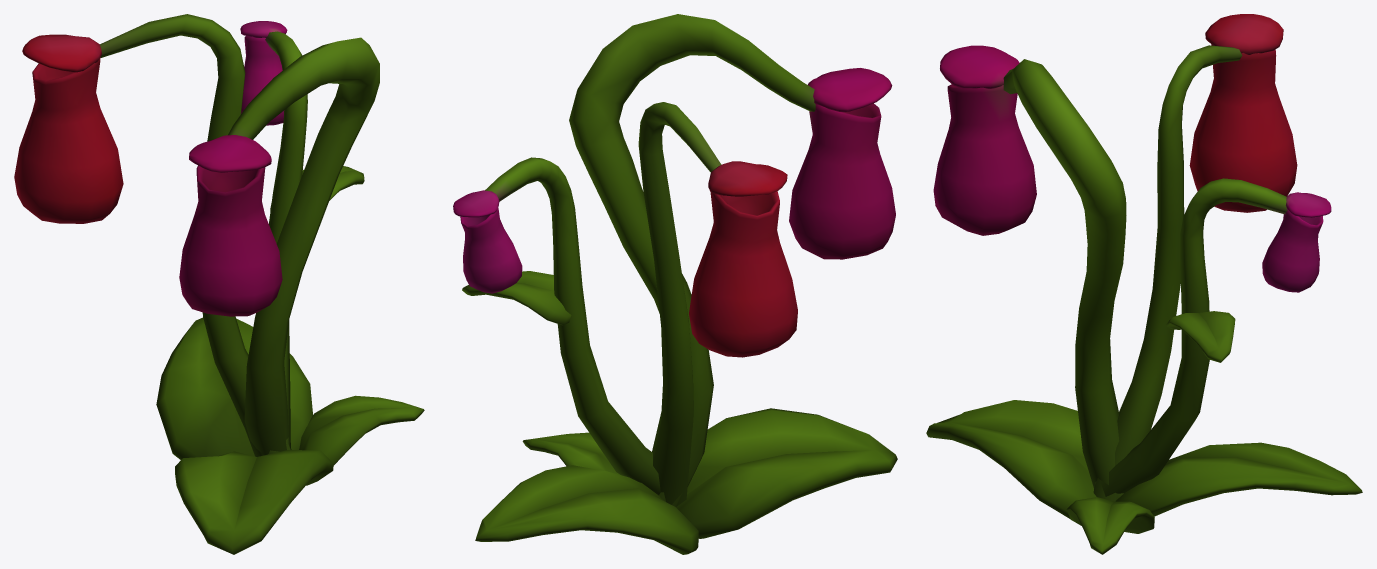
File: Plant_23.fbx
3 renders of one model, left to right at view 1: azimuth 30°, elevation 25°; view 2: azimuth 150°, elevation 25°; view 3: azimuth 270°, elevation 25°, orthographic. The views are drawn at different scales.
Visible parts, largest first — view 1: Plant_23; view 2: Plant_23; view 3: Plant_23.
Part boxes in pixels (x1=…): Plant_23: x1=14, y1=14, x2=424, y2=554; Plant_23: x1=453, y1=14, x2=897, y2=554; Plant_23: x1=926, y1=14, x2=1362, y2=554.
Size of the model in its own units: 344 by 463 by 392.
